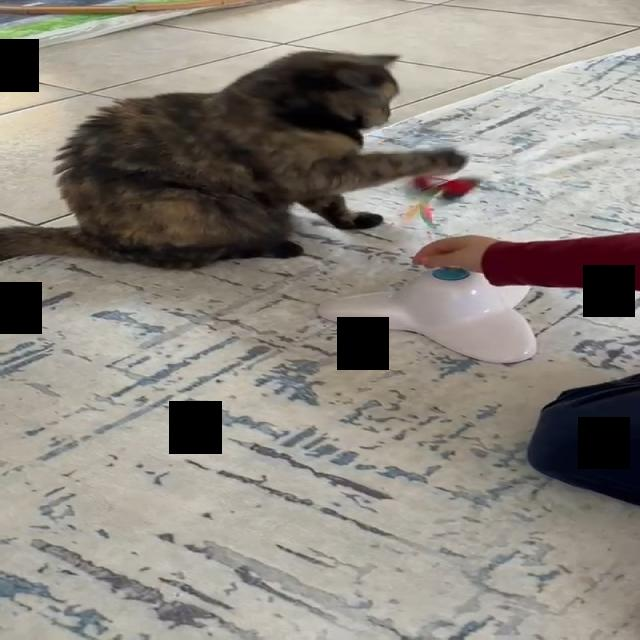authorized: (0, 49, 469, 270)
